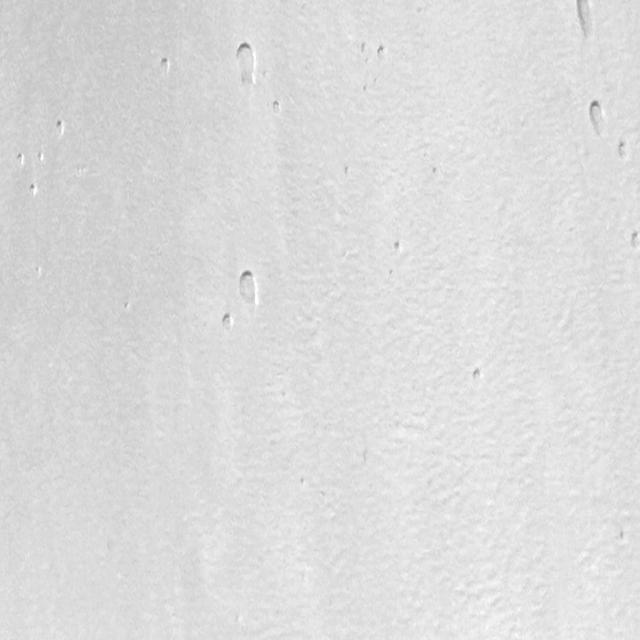pin holes: (230, 37, 262, 92), (235, 269, 266, 313), (570, 0, 602, 41), (583, 98, 610, 141), (616, 137, 634, 165), (468, 363, 488, 388), (217, 309, 236, 334), (159, 54, 173, 78), (54, 118, 68, 139), (392, 238, 408, 255), (270, 98, 284, 116), (15, 151, 28, 170), (376, 44, 389, 62), (359, 40, 371, 59), (27, 183, 39, 200), (628, 230, 639, 248), (297, 475, 310, 490), (36, 150, 46, 164), (124, 298, 132, 313), (431, 163, 438, 180), (344, 164, 349, 178)
